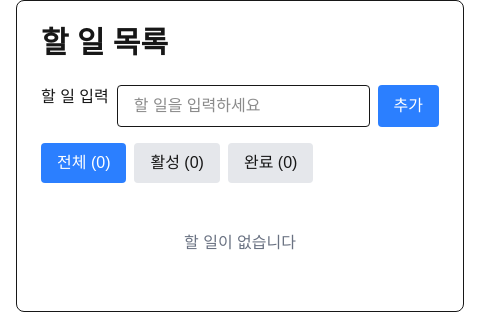
Scenario: TodoList 컴포넌트 테스트 › 할 일을 추가 할 수 있다.
Type "모달 완성" into the field labelled "할 일 입력".
click(243, 106); type("모달 완성")  # box [117, 85, 370, 127]
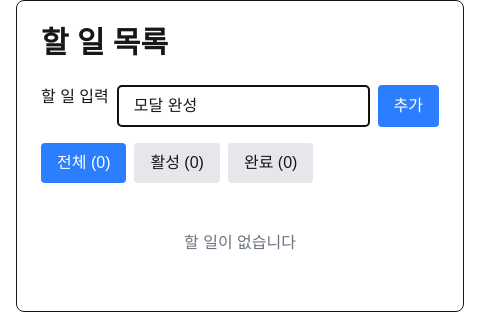
Click the button "추가".
click(408, 106)  # box [378, 85, 439, 127]
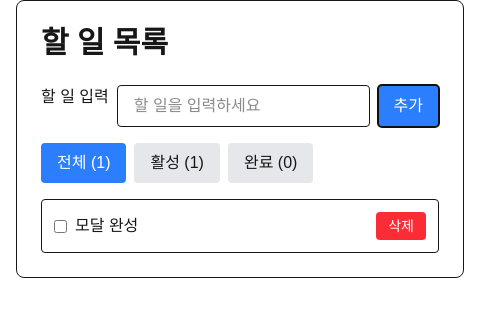
Check: the text "모달 완성" is shown, box [75, 217, 138, 234]
Check: the text "할 일이 없습니다" is gone
